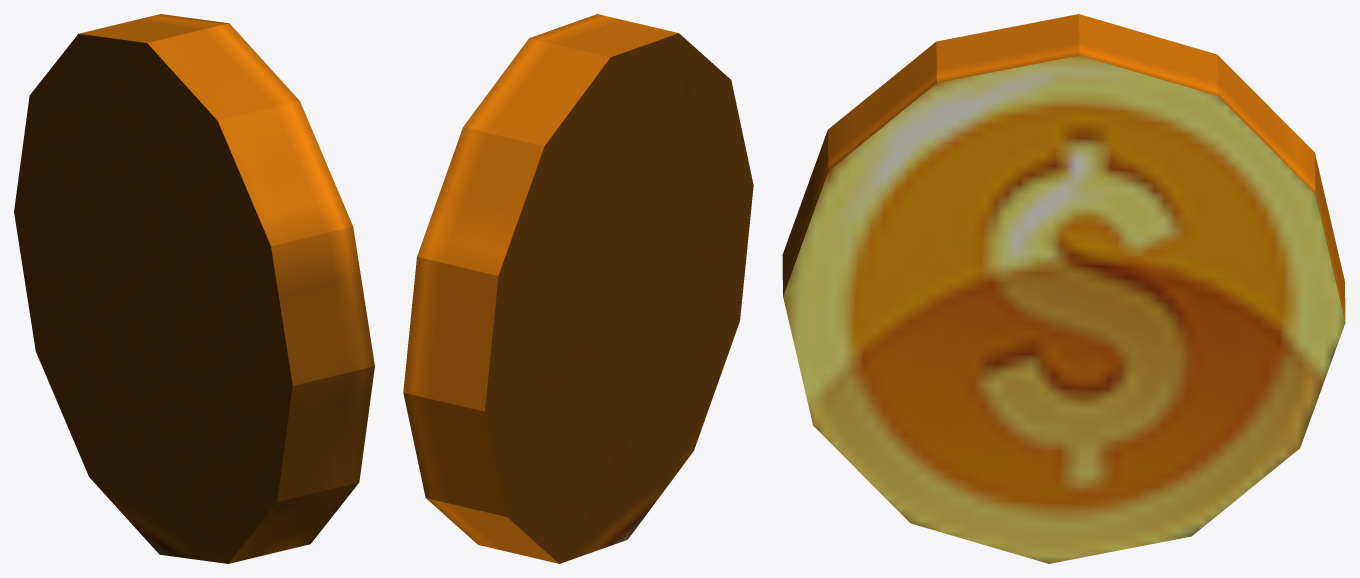
Rendered from Tx_prop_coin_10.fbx.
3 views of the same model, side by side, from view 1: azimuth 30°, elevation 25°; view 2: azimuth 150°, elevation 25°; view 3: azimuth 270°, elevation 25° (orthographic). The views are drawn at different scales.
Visible parts, largest first — view 1: Tx_prop_coin; view 2: Tx_prop_coin; view 3: Tx_prop_coin.
Part boxes in pixels (x1=…): Tx_prop_coin: x1=14, y1=14, x2=374, y2=563; Tx_prop_coin: x1=403, y1=14, x2=753, y2=563; Tx_prop_coin: x1=782, y1=14, x2=1345, y2=563.
Bounding box in the file's own units: 1.08 × 6.01 × 6.01.
